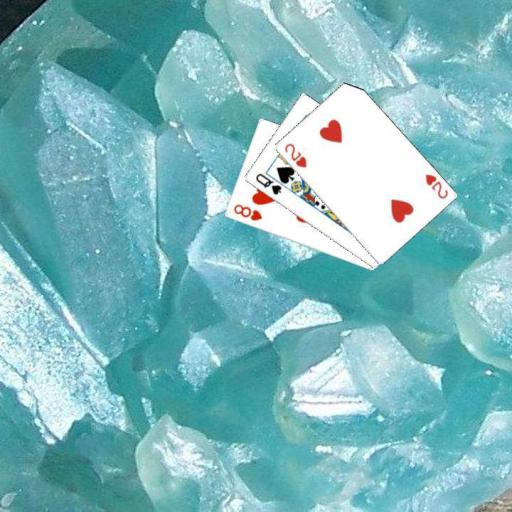2H: (422, 171, 449, 201), (281, 140, 308, 169)
8H: (231, 201, 263, 223)
QS: (252, 170, 283, 196)
